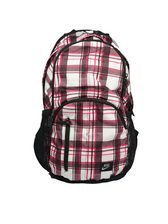bag: (34, 26, 140, 185)
